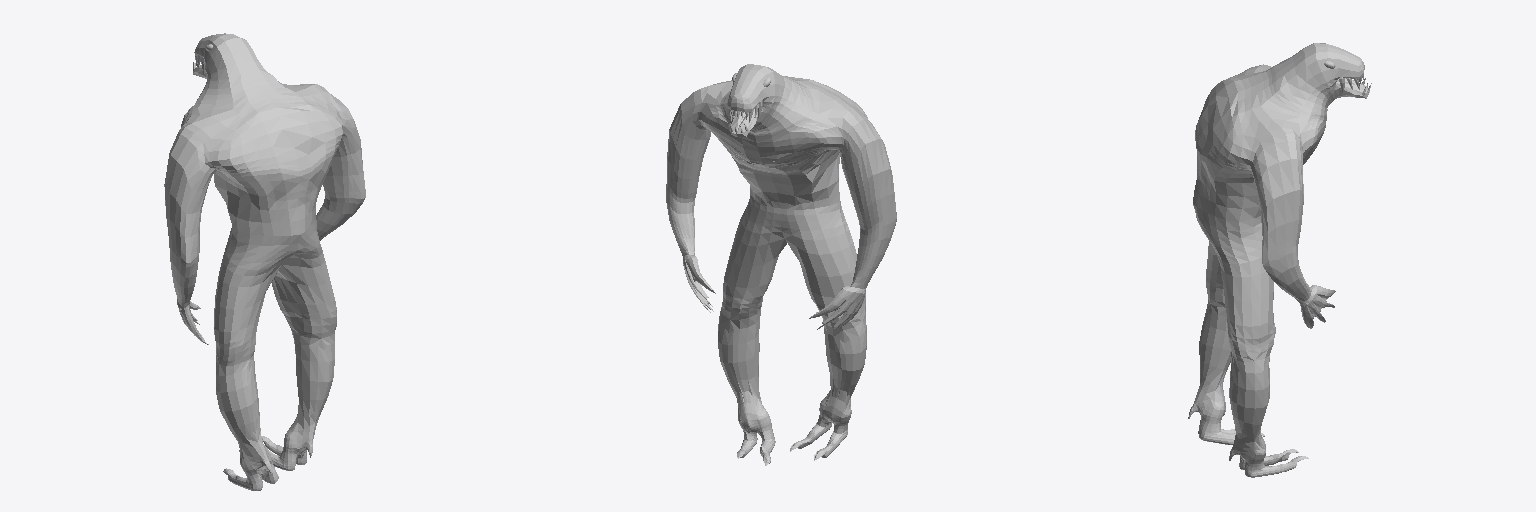
The model's file is Andar.0020.obj.
3 renders of one model, left to right at view 1: azimuth 30°, elevation 25°; view 2: azimuth 150°, elevation 25°; view 3: azimuth 270°, elevation 25°, orthographic.
Visible parts, largest first — view 1: polySurface28; view 2: polySurface28; view 3: polySurface28.
Boxes of the visible parts, <box> form: polySurface28: <box>164,33,365,490</box>; polySurface28: <box>666,64,896,465</box>; polySurface28: <box>1188,43,1371,477</box>.
Size of the model in its own units: 1.22 by 2.34 by 0.9459.